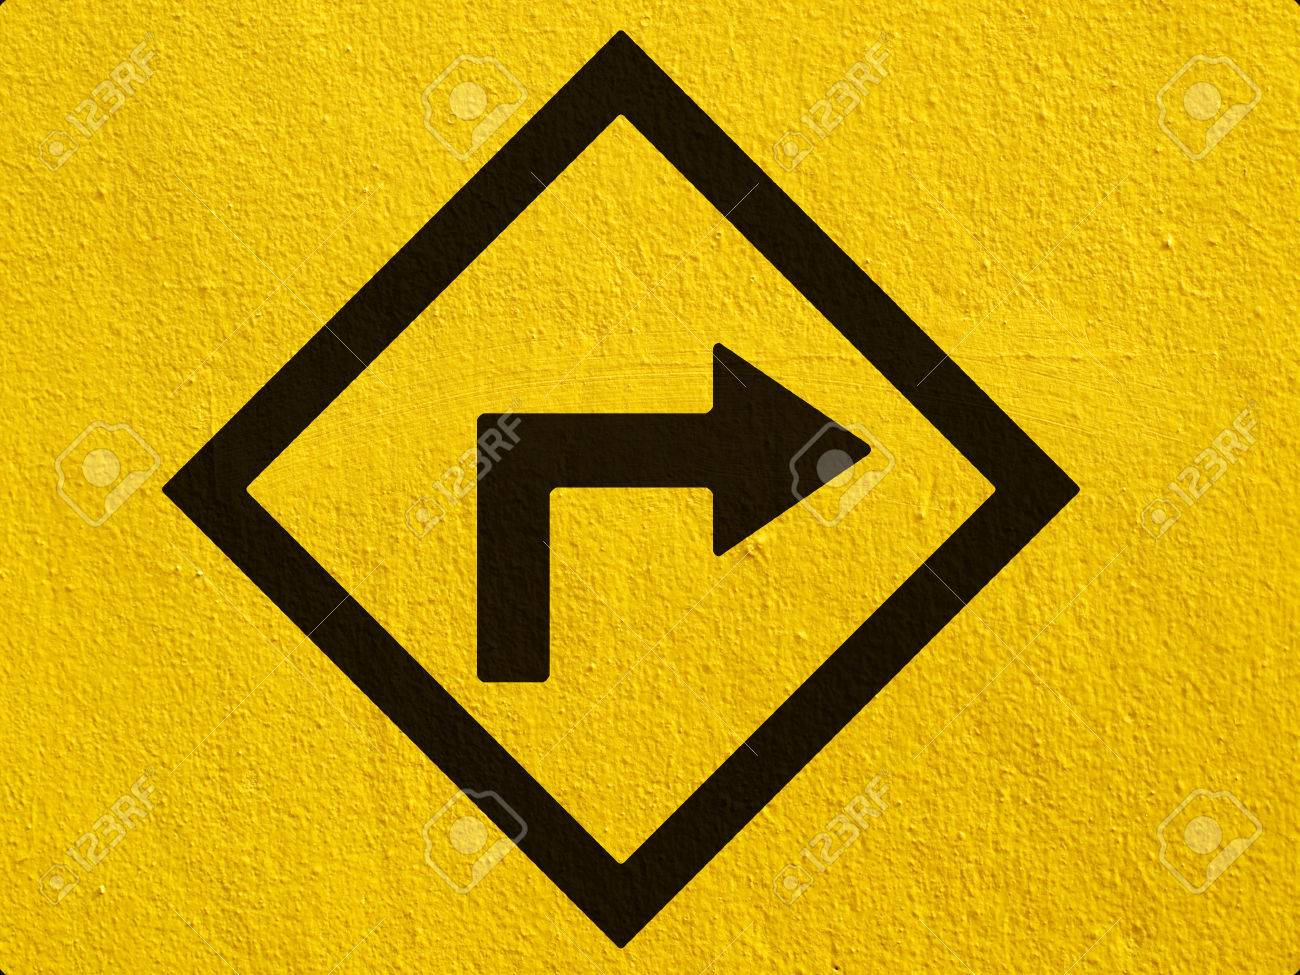right: (159, 26, 1085, 956)
